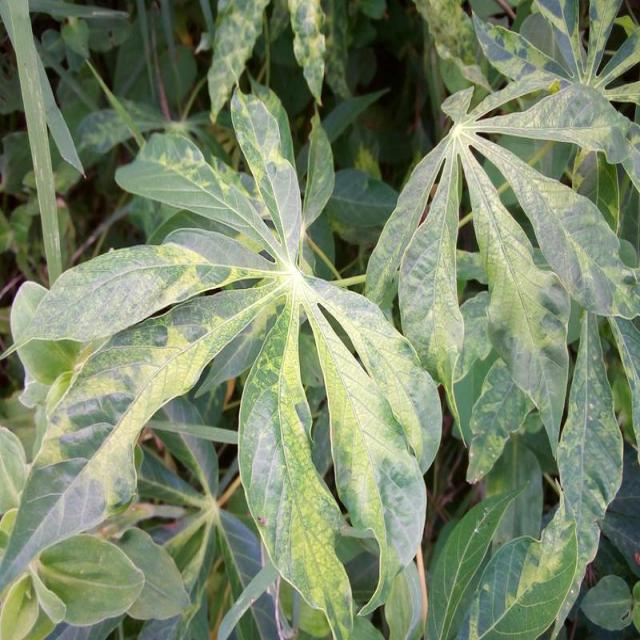cassava leaf: (2, 83, 444, 638)
